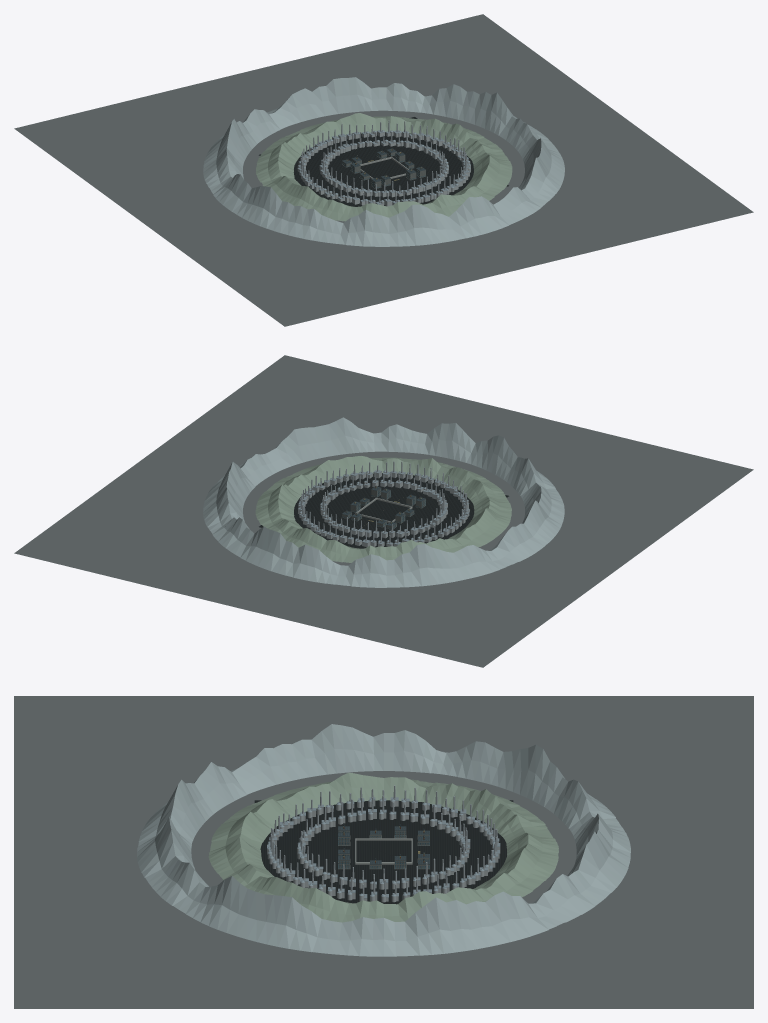
Rendered from defense_2_v2.glb.
3 views of the same model, one above another, from view 1: azimuth 30°, elevation 25°; view 2: azimuth 150°, elevation 25°; view 3: azimuth 270°, elevation 25° (orthographic). The views are drawn at different scales.
Visible parts, largest first — view 1: DISTANT_ground, DISTANT_far, DISTANT_near, PLAZA_FLAT, DISTANT_wall, DISTANT_steel, DISTANT_roof, aged_concrete; view 2: DISTANT_ground, DISTANT_far, DISTANT_near, PLAZA_FLAT, DISTANT_wall, DISTANT_steel, DISTANT_roof, aged_concrete; view 3: DISTANT_ground, DISTANT_far, DISTANT_near, PLAZA_FLAT, DISTANT_wall, DISTANT_steel, DISTANT_roof, galvanized_steel, aged_concrete.
Part boxes in pixels (box(x1,y1,x2,y2)): DISTANT_ground: box(14, 14, 753, 326); DISTANT_far: box(203, 77, 564, 246); DISTANT_near: box(256, 113, 512, 221); PLAZA_FLAT: box(259, 117, 508, 206); DISTANT_wall: box(297, 131, 470, 206); DISTANT_steel: box(300, 120, 467, 202); DISTANT_roof: box(297, 130, 470, 204); aged_concrete: box(342, 150, 425, 188); DISTANT_ground: box(14, 355, 753, 667); DISTANT_far: box(203, 417, 564, 587); DISTANT_near: box(255, 456, 511, 562); PLAZA_FLAT: box(259, 473, 508, 548); DISTANT_wall: box(298, 471, 469, 546); DISTANT_steel: box(300, 461, 467, 543); DISTANT_roof: box(298, 469, 469, 544); aged_concrete: box(342, 488, 425, 529); DISTANT_ground: box(14, 696, 753, 1008); DISTANT_far: box(137, 724, 630, 956); DISTANT_near: box(208, 772, 558, 922); PLAZA_FLAT: box(254, 800, 513, 904); DISTANT_wall: box(267, 800, 500, 902); DISTANT_steel: box(270, 785, 497, 895); DISTANT_roof: box(267, 797, 500, 898); galvanized_steel: box(338, 824, 429, 868); aged_concrete: box(338, 830, 429, 869).
Size of the model in its own units: 1260 by 83.62 by 1260.
Materials: 15 (5 with a texture image).
